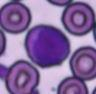L: (25, 24, 70, 66)
